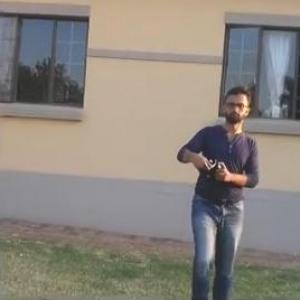follow: (172, 76, 266, 299)
